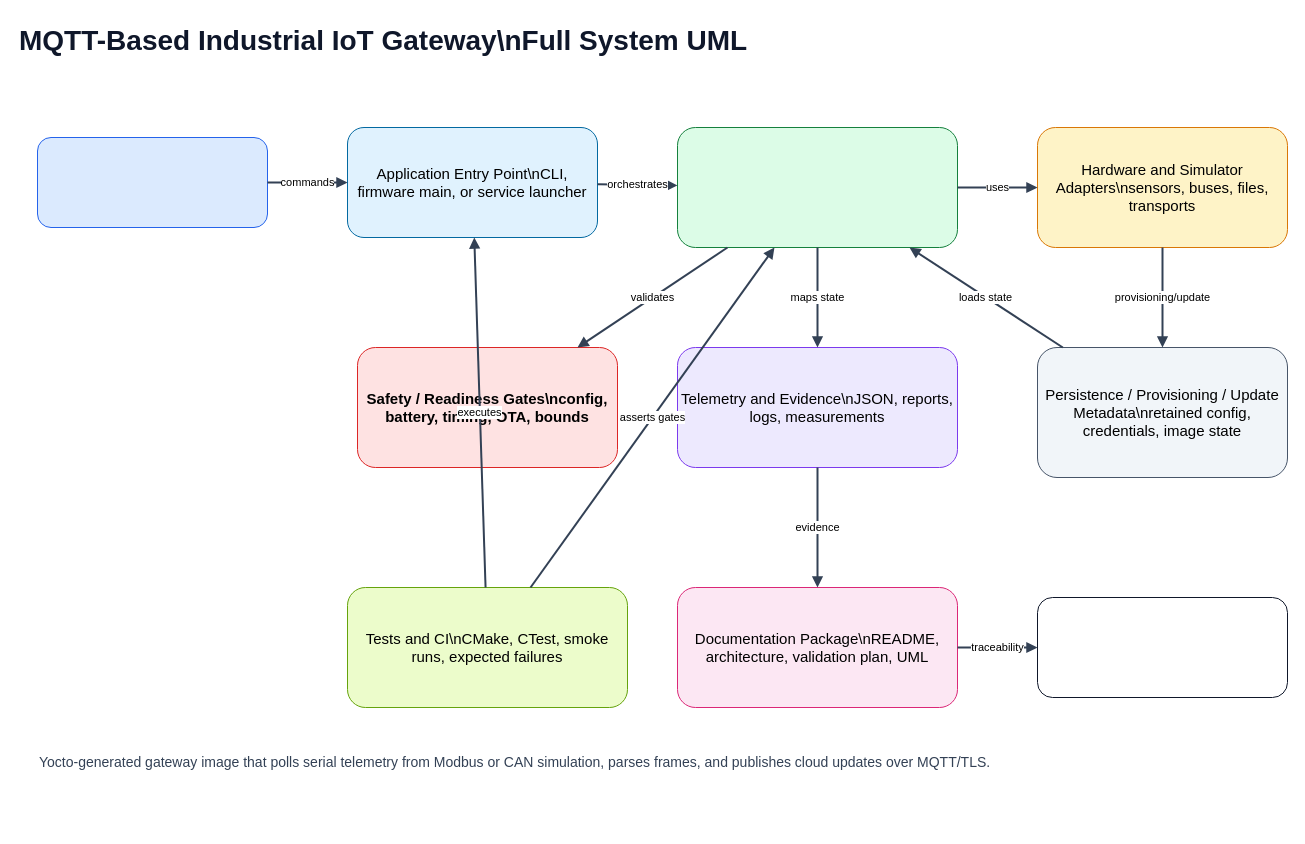
This 1305x844 diagram has some shape labels left out. The centre of each missing label's shape, as x and y in pixels:
Domain / Control Core\nstate model, policy, orchestration: (817,187)
Operator / Cloud / Test Harness: (152,182)
Target Stack\nC++17, C++ Design Patterns, SOLID, Yocto, MQTT, TLS: (1162,647)
